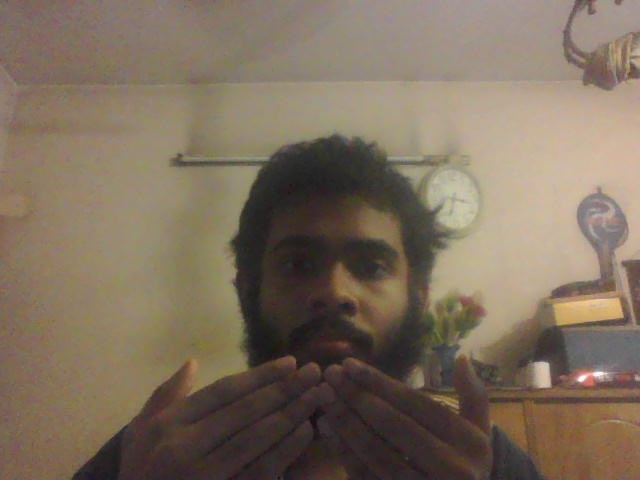Thank You: (126, 354, 508, 480)
